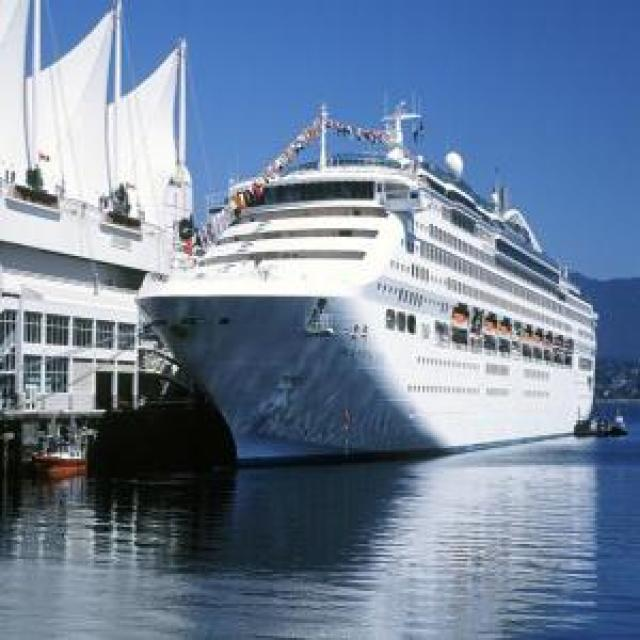passenger ship: (136, 125, 602, 458)
